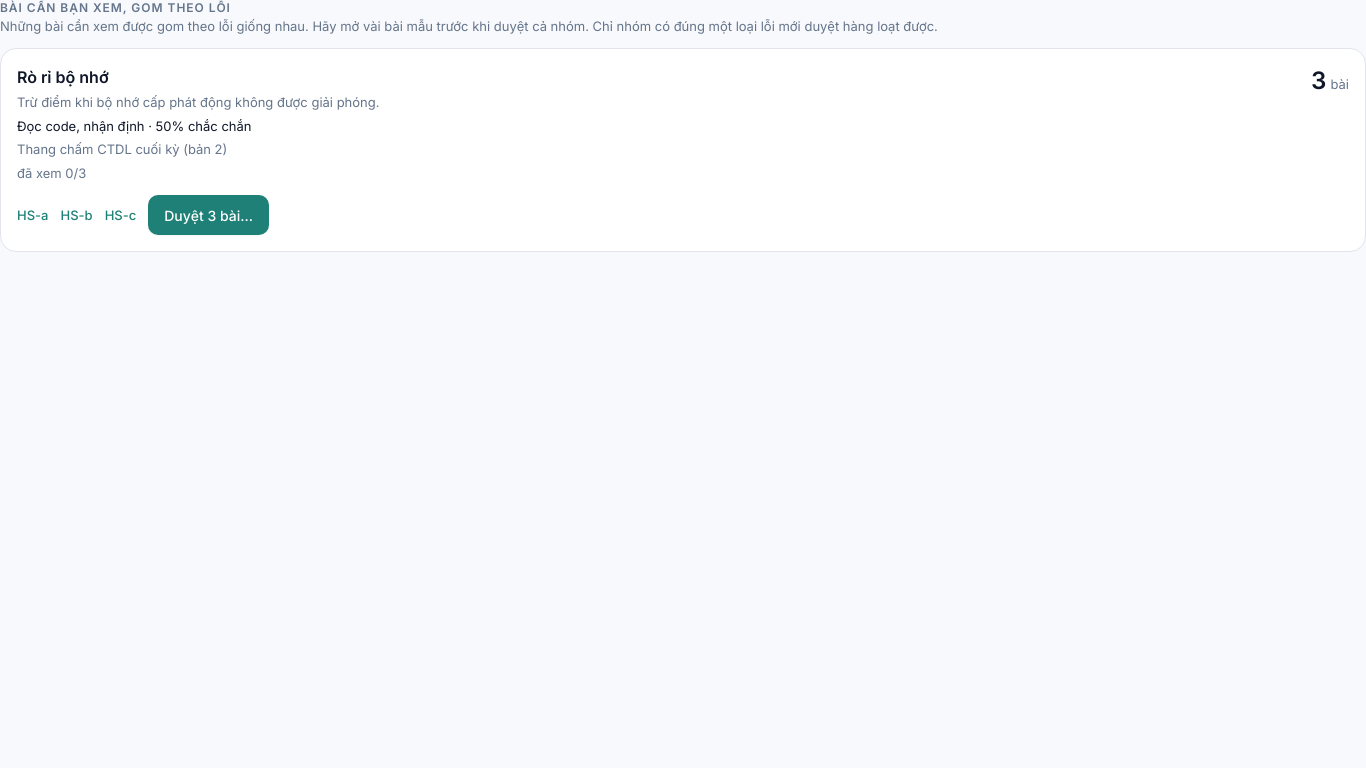
it: ReviewGroupsPanel (spec duyệt nhanh §5.4: duyệt theo nhóm lỗi, chỉ nhóm một lỗi được duyệt cả loạt) › hộp duyệt › reads the outcome back: how many were approved, and every skipped paper with its reason
This screenshot has width=1366, height=768.
What coordinates should you click on to do the following:
click the button "Duyệt 3 bài…"
I would click on:
 (209, 215)
Its box is 148,195 -> 269,235.
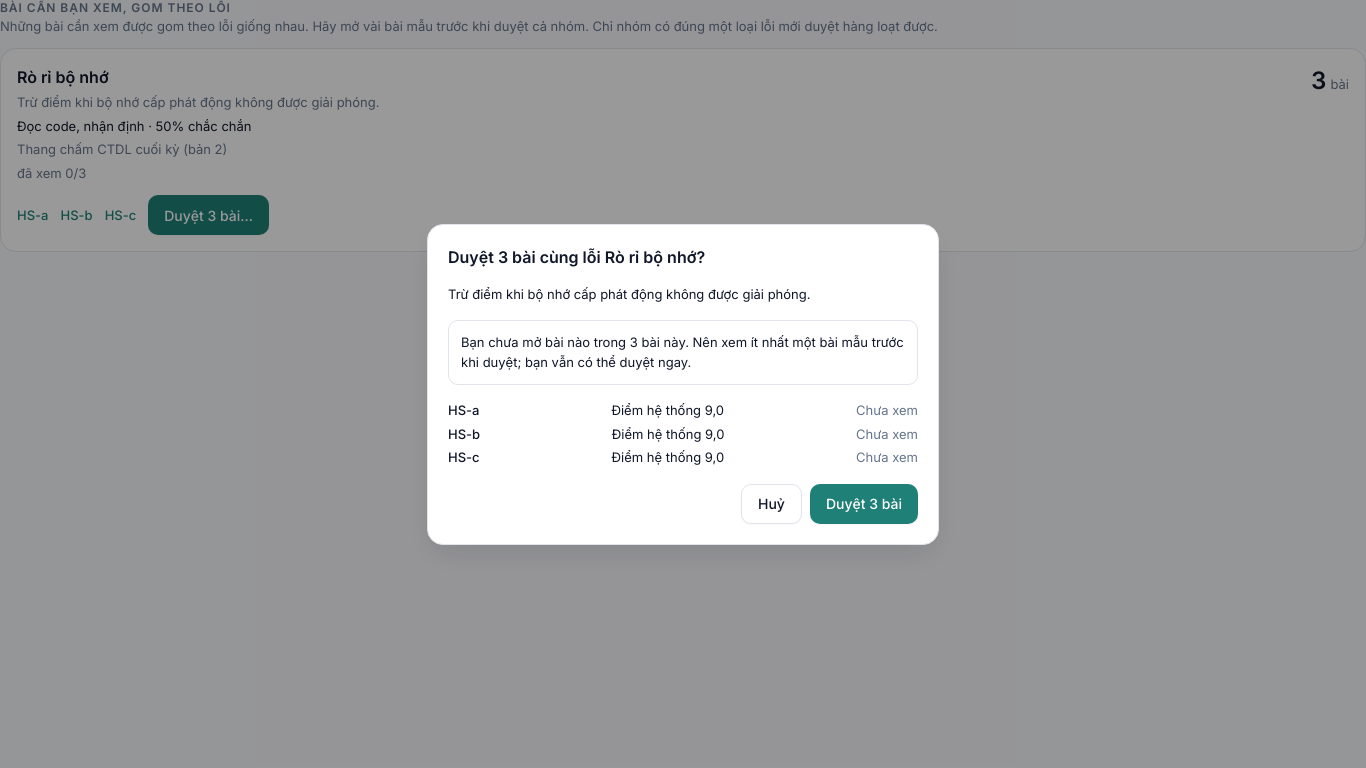
What coordinates should you click on to do the following:
click the button "Duyệt 3 bài"
I would click on:
 (864, 504)
Its box is 810,484 -> 918,524.
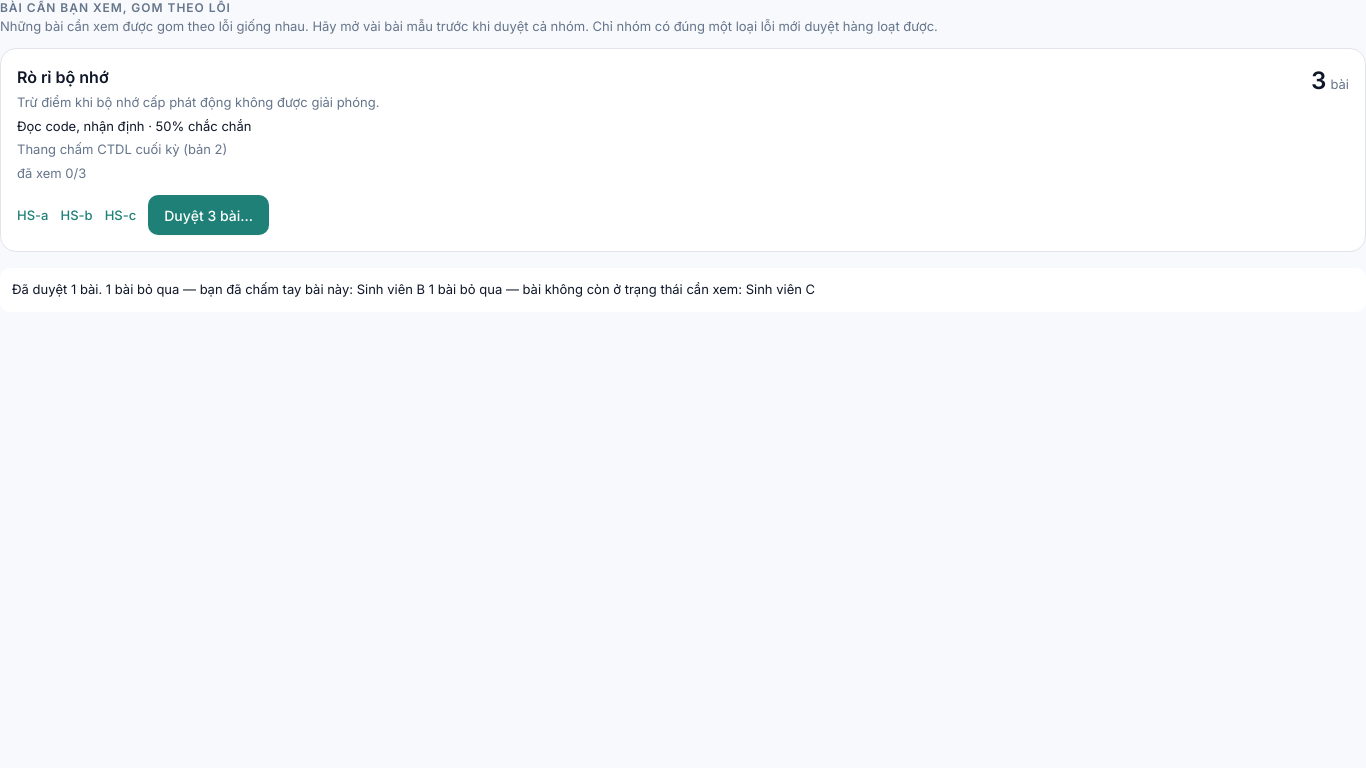
Expected: the message shows "Đã duyệt 1 bài", 12,281 -> 815,297
Expected: the message shows "1 bài bỏ qua — bạn đã chấm tay bài này: Sinh viên B", 12,281 -> 815,297
Expected: the message shows "1 bài bỏ qua — bài không còn ở trạng thái cần xem: Sinh viên C", 12,281 -> 815,297
